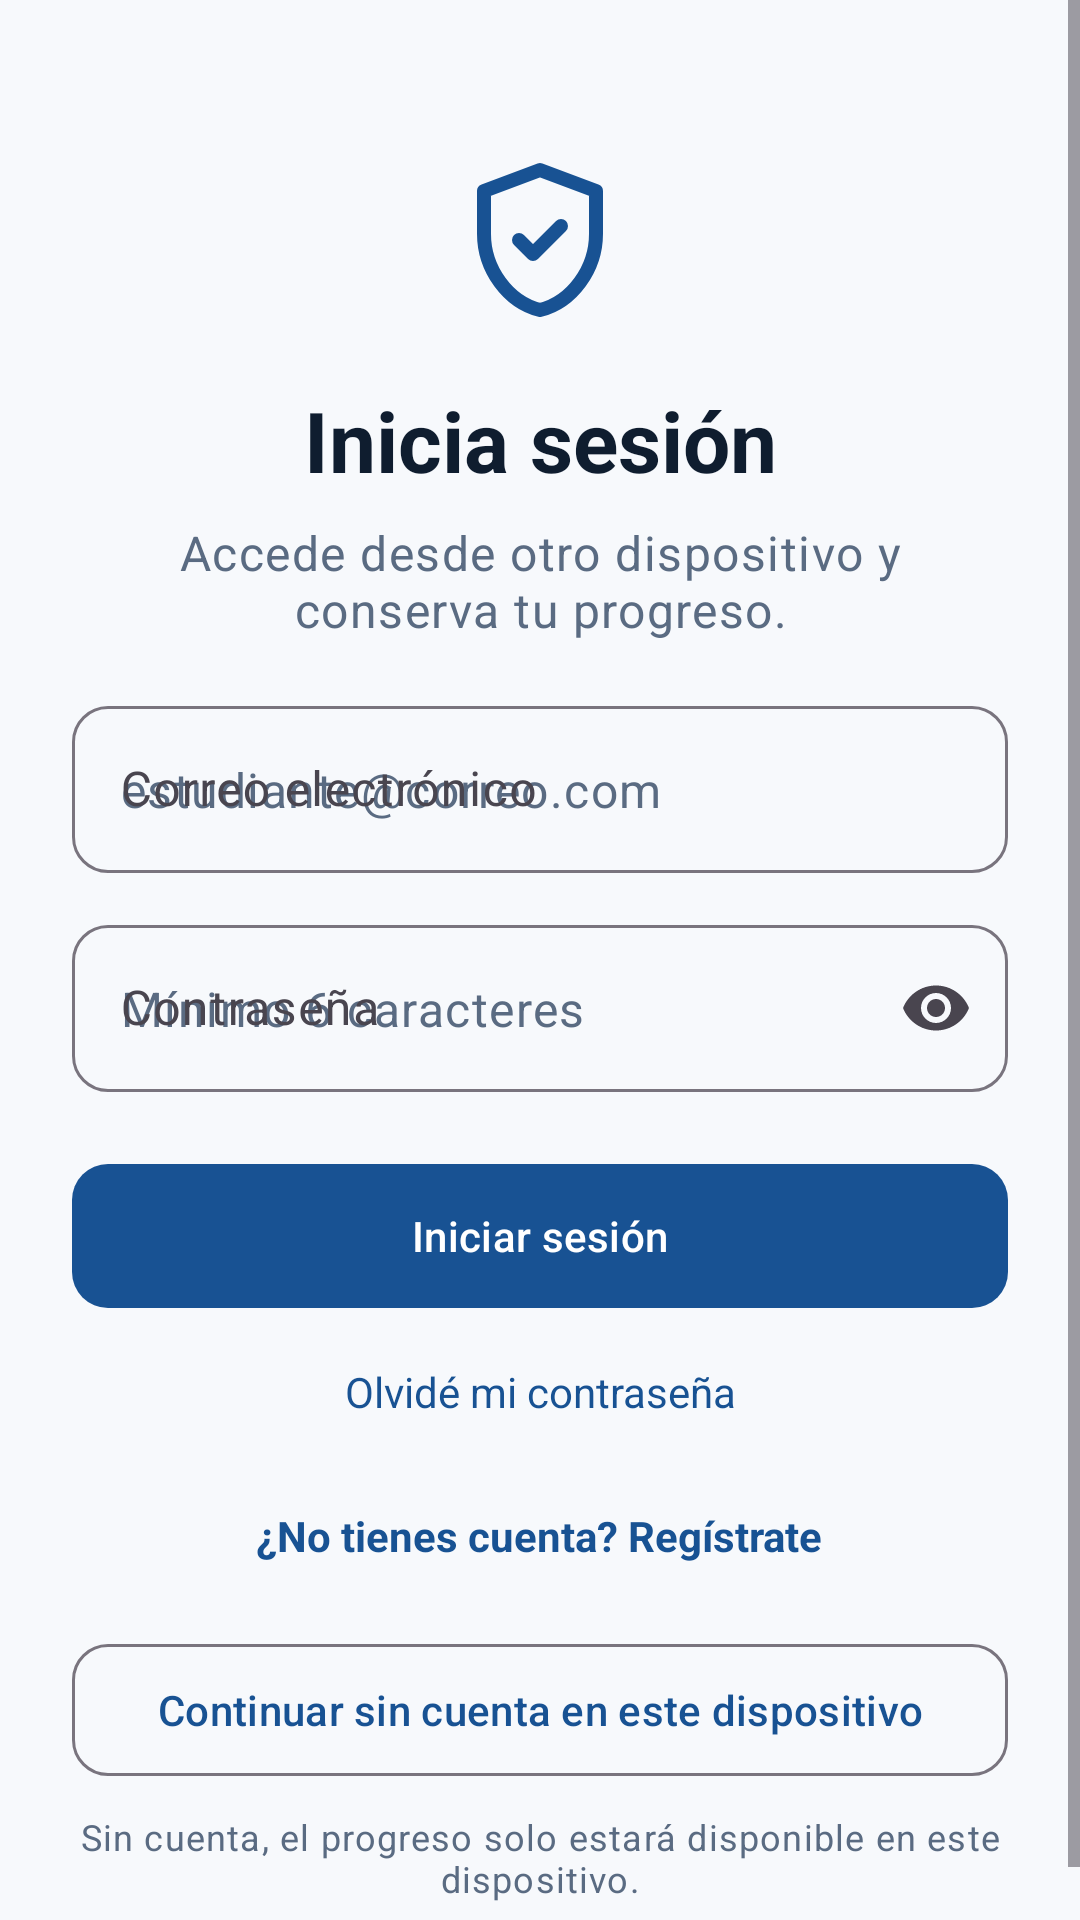

Where to tap for icons on this 1080px×1920px app screen, as [x,y]:
shield: [540,240]
